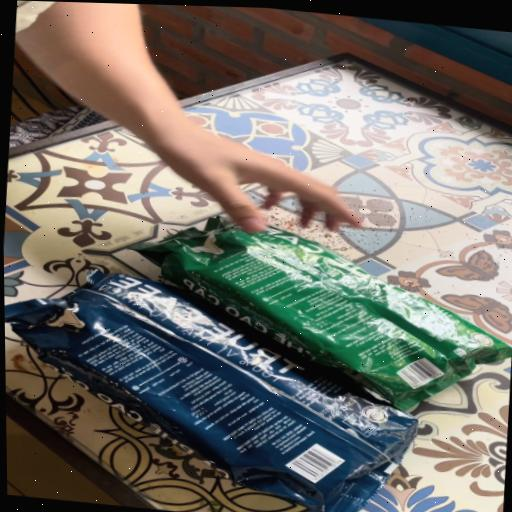cafe_hat: (5, 271, 418, 512)
cafe_xay: (137, 217, 512, 411)
